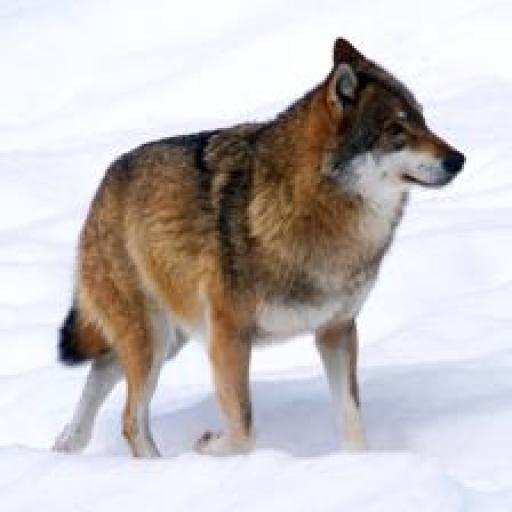wolf: (46, 27, 480, 487)
